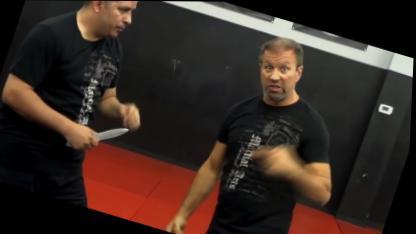knife: (63, 109, 134, 162)
